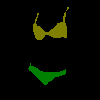mutande: (28, 62, 66, 85)
reggiseno: (33, 7, 69, 40)
